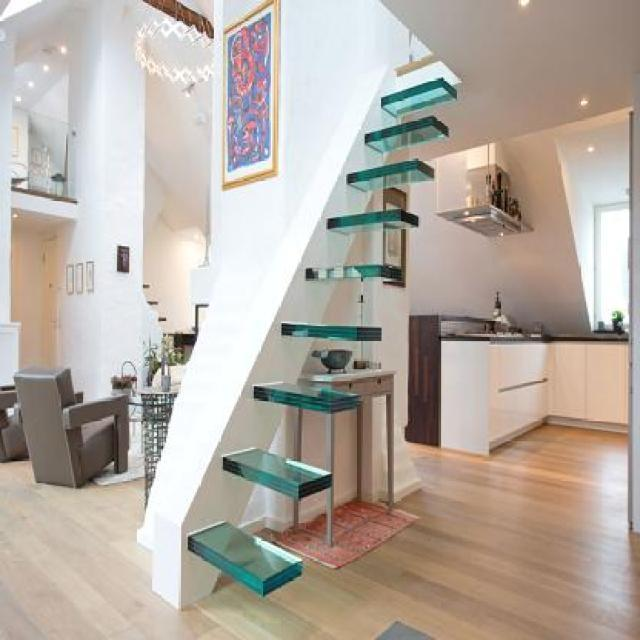stair: (158, 20, 464, 617)
